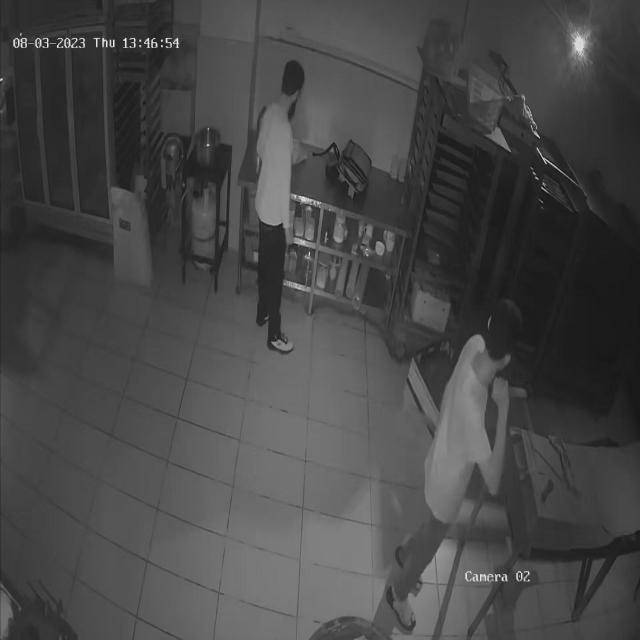Knife: (494, 379, 542, 409)
